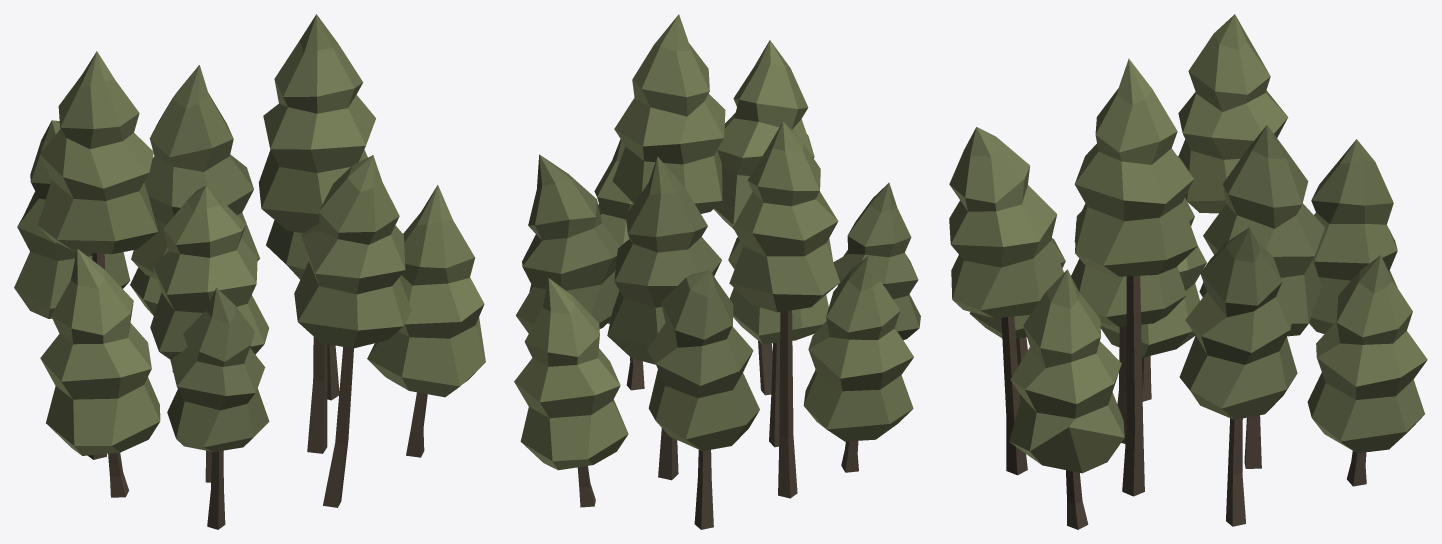
Rendered from SM_Env_Tree_Clump_02.glb.
The picture shows the model from 3 angles, left to right: view 1: azimuth 30°, elevation 25°; view 2: azimuth 150°, elevation 25°; view 3: azimuth 270°, elevation 25°; orthographic projection. The views are drawn at different scales.
Parts seen in each view (by area): view 1: SM_Env_Tree_Clump_02; view 2: SM_Env_Tree_Clump_02; view 3: SM_Env_Tree_Clump_02.
Boxes of the visible parts, x1,y1,x2,y2 form: SM_Env_Tree_Clump_02: [14, 14, 485, 529]; SM_Env_Tree_Clump_02: [514, 14, 920, 529]; SM_Env_Tree_Clump_02: [949, 14, 1427, 529].
Bounding box in the file's own units: 7.9 × 8.58 × 8.6.
Materials: 1 (1 with a texture image).
